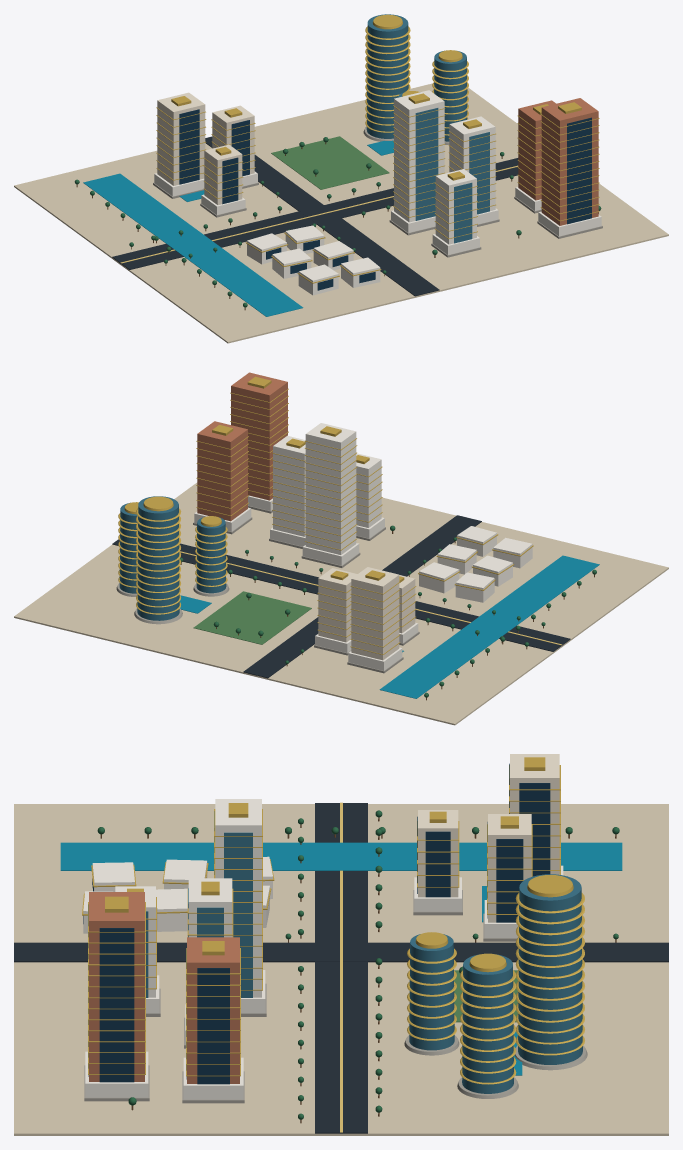
File: demo-district.glb
3 renders of one model, top to bottom at view 1: azimuth 30°, elevation 25°; view 2: azimuth 150°, elevation 25°; view 3: azimuth 270°, elevation 25°, orthographic. The views are drawn at different scales.
Visible parts, largest first — view 1: Masterplan Ground, Azure Heights (×8), Keyora Boulevard (×4), Aurelia Gardens (×7), Canal Promenade, Marina Crown (×2), The Palm Residences (×6), North Avenue, Central Boulevard, Central Park; view 2: Masterplan Ground, Azure Heights (×4), Keyora Boulevard (×2), Aurelia Gardens (×4), Marina Crown (×3), Canal Promenade, The Palm Residences (×6), Central Boulevard, North Avenue, Central Park; view 3: Masterplan Ground, Marina Crown (×5), Keyora Boulevard (×6), Central Boulevard, Aurelia Gardens (×8), Canal Promenade, Azure Heights (×5), North Avenue, The Palm Residences (×3), Boulevard Median.
Part boxes in pixels (x1,y1,x2,y2): Masterplan Ground: [14, 83, 668, 343]; Azure Heights (×8): [391, 90, 495, 254]; Keyora Boulevard (×4): [518, 98, 601, 236]; Aurelia Gardens (×7): [154, 92, 254, 204]; Canal Promenade: [83, 173, 303, 316]; Marina Crown (×2): [366, 14, 467, 141]; The Palm Residences (×6): [247, 225, 380, 295]; North Avenue: [205, 136, 439, 296]; Central Boulevard: [112, 158, 518, 269]; Central Park: [271, 136, 389, 189]; Masterplan Ground: [14, 482, 668, 725]; Azure Heights (×4): [273, 423, 381, 565]; Keyora Boulevard (×2): [197, 372, 287, 521]; Aurelia Gardens (×4): [318, 567, 415, 670]; Marina Crown (×3): [119, 496, 226, 620]; Canal Promenade: [379, 555, 599, 698]; The Palm Residences (×6): [419, 526, 532, 602]; Central Boulevard: [112, 539, 570, 651]; North Avenue: [243, 515, 481, 678]; Central Park: [193, 591, 311, 644]; Masterplan Ground: [14, 804, 668, 1135]; Marina Crown (×5): [409, 874, 582, 1093]; Keyora Boulevard (×6): [85, 892, 243, 1099]; Central Boulevard: [315, 803, 367, 1133]; Aurelia Gardens (×8): [414, 754, 559, 937]; Canal Promenade: [60, 842, 622, 870]; Azure Heights (×5): [115, 799, 261, 997]; North Avenue: [14, 942, 668, 962]; The Palm Residences (×3): [92, 859, 207, 931]; Boulevard Median: [340, 802, 342, 1132].
Bounding box in the file's own units: 250 × 69.2 × 210.
